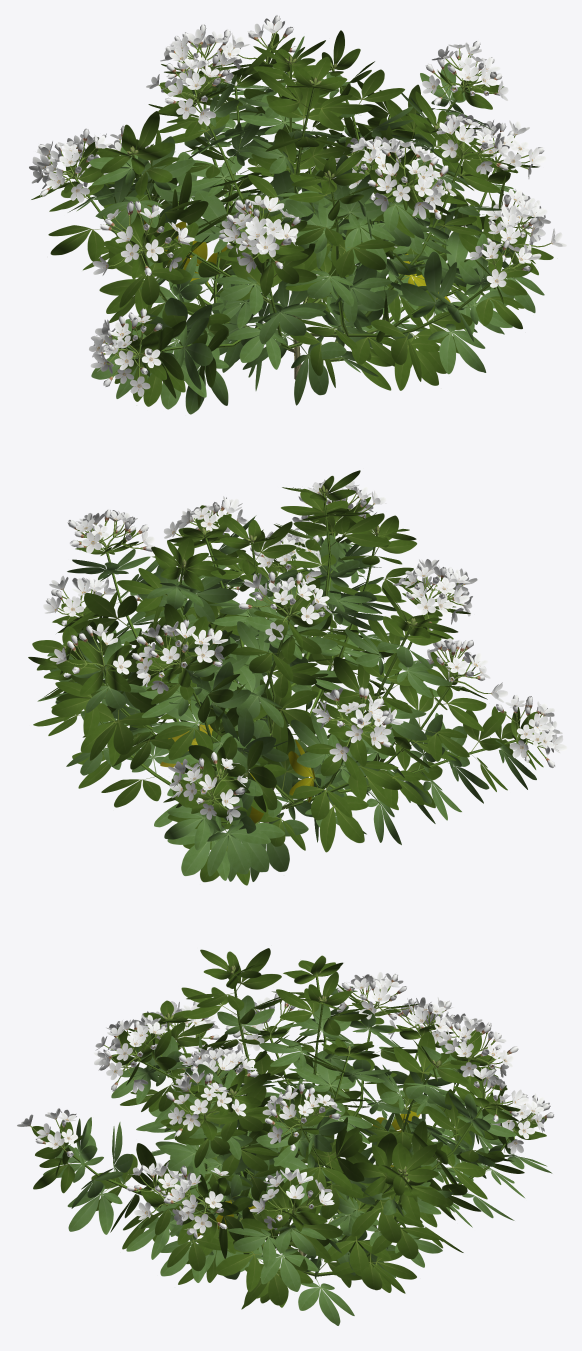
File: realistic_hd_mexican_orange_blossom_110.glb
The picture shows the model from 3 angles, top to bottom: view 1: azimuth 30°, elevation 25°; view 2: azimuth 150°, elevation 25°; view 3: azimuth 270°, elevation 25°; orthographic projection. The views are drawn at different scales.
Visible parts, largest first — view 1: Choisya_ternata_HD_Choisya leaf 01_0_10, Choisya_ternata_HD_Choisya leaf 02 back_0_11, Choisya_ternata_HD_Choisya flower 01_0_7, Choisya_ternata_HD_Choisya bud 01_0_5, Choisya_ternata_HD_Choisya flower stalk_0_8, Choisya_ternata_HD_Choisya twig_0_14, Choisya_ternata_HD_Choisya bark_0_12, Choisya_ternata_HD_Choisya leaf 02 dry 1 back_0_6; view 2: Choisya_ternata_HD_Choisya leaf 01_0_10, Choisya_ternata_HD_Choisya leaf 02 back_0_11, Choisya_ternata_HD_Choisya flower 01_0_7, Choisya_ternata_HD_Choisya bud 01_0_5, Choisya_ternata_HD_Choisya flower stalk_0_8, Choisya_ternata_HD_Choisya twig_0_14, Choisya_ternata_HD_Choisya bark_0_12, Choisya_ternata_HD_Choisya leaf 02 dry 1 back_0_6; view 3: Choisya_ternata_HD_Choisya leaf 01_0_10, Choisya_ternata_HD_Choisya leaf 02 back_0_11, Choisya_ternata_HD_Choisya flower 01_0_7, Choisya_ternata_HD_Choisya bud 01_0_5, Choisya_ternata_HD_Choisya flower stalk_0_8, Choisya_ternata_HD_Choisya twig_0_14.
Boxes of the visible parts, x1=… form: Choisya_ternata_HD_Choisya leaf 01_0_10: x1=31, y1=30, x2=553, y2=407; Choisya_ternata_HD_Choisya leaf 02 back_0_11: x1=68, y1=36, x2=544, y2=414; Choisya_ternata_HD_Choisya flower 01_0_7: x1=29, y1=18, x2=566, y2=396; Choisya_ternata_HD_Choisya bud 01_0_5: x1=38, y1=15, x2=544, y2=386; Choisya_ternata_HD_Choisya flower stalk_0_8: x1=43, y1=32, x2=550, y2=376; Choisya_ternata_HD_Choisya twig_0_14: x1=76, y1=65, x2=508, y2=358; Choisya_ternata_HD_Choisya bark_0_12: x1=165, y1=207, x2=404, y2=379; Choisya_ternata_HD_Choisya leaf 02 dry 1 back_0_6: x1=144, y1=205, x2=450, y2=302; Choisya_ternata_HD_Choisya leaf 01_0_10: x1=28, y1=470, x2=543, y2=885; Choisya_ternata_HD_Choisya leaf 02 back_0_11: x1=37, y1=515, x2=536, y2=881; Choisya_ternata_HD_Choisya flower 01_0_7: x1=43, y1=479, x2=567, y2=823; Choisya_ternata_HD_Choisya bud 01_0_5: x1=45, y1=491, x2=555, y2=804; Choisya_ternata_HD_Choisya flower stalk_0_8: x1=57, y1=489, x2=544, y2=810; Choisya_ternata_HD_Choisya twig_0_14: x1=69, y1=495, x2=516, y2=823; Choisya_ternata_HD_Choisya bark_0_12: x1=152, y1=636, x2=368, y2=829; Choisya_ternata_HD_Choisya leaf 02 dry 1 back_0_6: x1=233, y1=672, x2=317, y2=823; Choisya_ternata_HD_Choisya leaf 01_0_10: x1=32, y1=948, x2=546, y2=1309; Choisya_ternata_HD_Choisya leaf 02 back_0_11: x1=43, y1=986, x2=552, y2=1325; Choisya_ternata_HD_Choisya flower 01_0_7: x1=17, y1=972, x2=549, y2=1239; Choisya_ternata_HD_Choisya bud 01_0_5: x1=35, y1=973, x2=553, y2=1229; Choisya_ternata_HD_Choisya flower stalk_0_8: x1=30, y1=985, x2=542, y2=1222; Choisya_ternata_HD_Choisya twig_0_14: x1=65, y1=974, x2=509, y2=1256.
Bounding box in the file's own units: 0.3191 × 0.227 × 0.3344.
11 materials, 11 textured.
